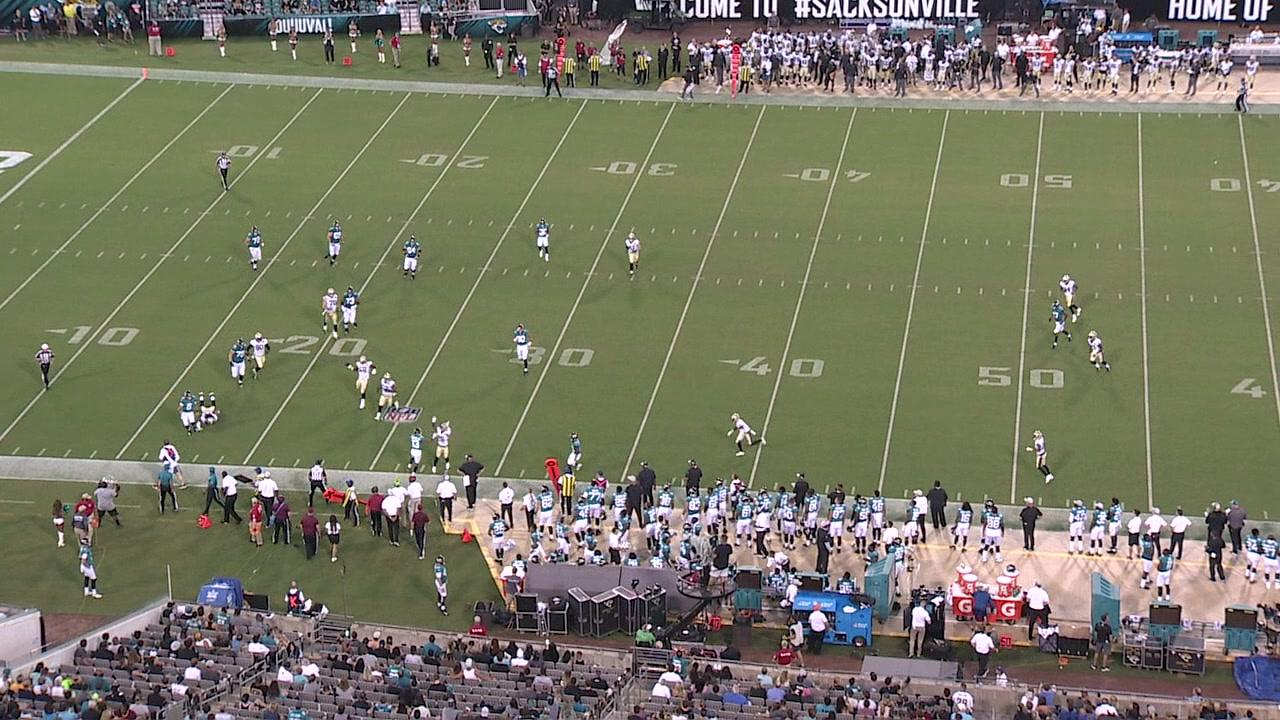number: (276, 332, 369, 360), (976, 364, 1067, 391), (736, 355, 828, 381), (65, 322, 142, 348), (1206, 174, 1280, 196), (998, 171, 1075, 191), (416, 151, 490, 171), (605, 159, 679, 179), (799, 166, 873, 184), (227, 143, 284, 160)
